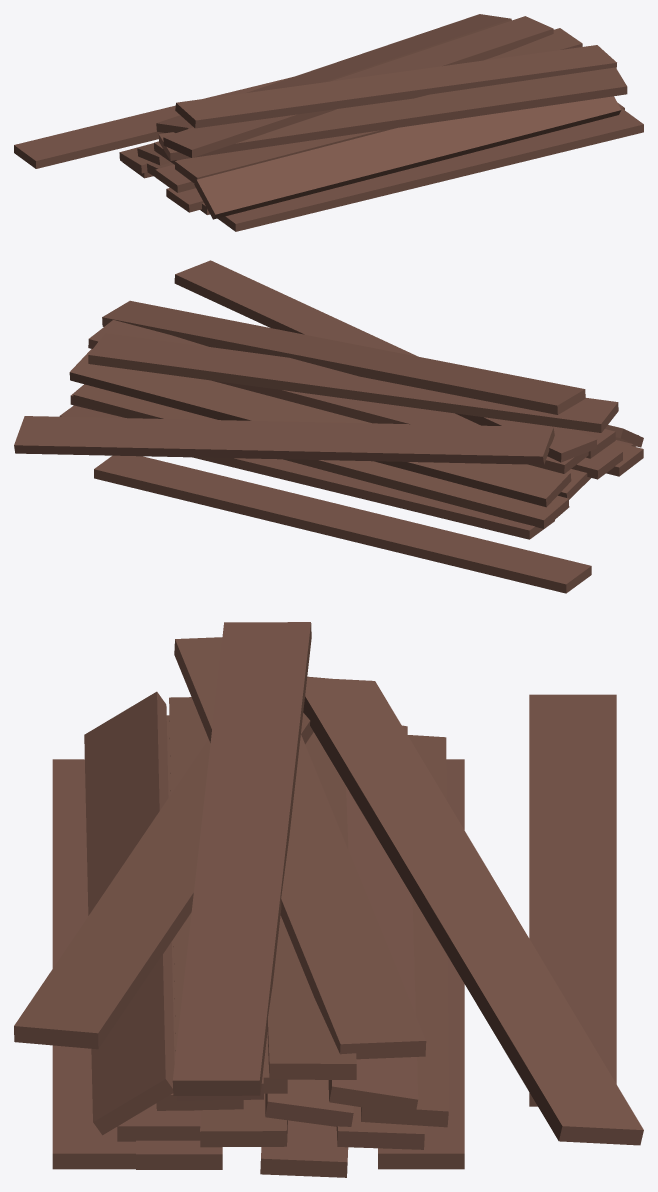
Rendered from model-triangulated.obj.
3 renders of one model, top to bottom at view 1: azimuth 30°, elevation 25°; view 2: azimuth 150°, elevation 25°; view 3: azimuth 270°, elevation 25°, orthographic. The views are drawn at different scales.
Parts seen in each view (by area): view 1: group708861228, group268260862, group294890801, group75019549, group979706915, group2021376920, group565967322, group1859142220, group695272068, group840447443, group124393089, group1923315885 (+1 smaller); view 2: group565967322, group2021376920, group979706915, group268260862, group1505795222, group294890801, group1923315885, group1879373694, group695272068, group840447443, group124393089, group1859142220; view 3: group268260862, group565967322, group2021376920, group979706915, group294890801, group708861228, group75019549, group1505795222, group695272068, group1923315885, group1879373694, group1859142220 (+7 smaller).
Boxes of the visible parts, x1=… form: group708861228: x1=194, y1=96, x2=621, y2=219; group268260862: x1=175, y1=45, x2=616, y2=128; group294890801: x1=158, y1=67, x2=627, y2=160; group75019549: x1=217, y1=109, x2=643, y2=231; group979706915: x1=163, y1=16, x2=553, y2=157; group2021376920: x1=14, y1=77, x2=292, y2=168; group565967322: x1=156, y1=14, x2=511, y2=132; group1859142220: x1=175, y1=128, x2=396, y2=183; group695272068: x1=154, y1=28, x2=582, y2=164; group840447443: x1=155, y1=164, x2=195, y2=192; group124393089: x1=166, y1=188, x2=203, y2=212; group1923315885: x1=119, y1=143, x2=153, y2=173; group565967322: x1=14, y1=416, x2=554, y2=464; group2021376920: x1=94, y1=455, x2=591, y2=593; group979706915: x1=88, y1=333, x2=618, y2=432; group268260862: x1=102, y1=300, x2=585, y2=414; group1505795222: x1=69, y1=349, x2=571, y2=507; group294890801: x1=174, y1=260, x2=597, y2=462; group1923315885: x1=73, y1=384, x2=569, y2=528; group1879373694: x1=59, y1=405, x2=554, y2=539; group695272068: x1=88, y1=320, x2=588, y2=473; group840447443: x1=571, y1=447, x2=622, y2=479; group124393089: x1=606, y1=441, x2=643, y2=476; group1859142220: x1=577, y1=429, x2=615, y2=458; group268260862: x1=172, y1=622, x2=311, y2=1095; group565967322: x1=303, y1=677, x2=643, y2=1145; group2021376920: x1=529, y1=694, x2=616, y2=1106; group979706915: x1=174, y1=637, x2=426, y2=1059; group294890801: x1=14, y1=676, x2=328, y2=1049; group708861228: x1=84, y1=691, x2=174, y2=1135; group75019549: x1=52, y1=759, x2=135, y2=1169; group1505795222: x1=328, y1=725, x2=418, y2=1115; group695272068: x1=267, y1=732, x2=356, y2=1079; group1923315885: x1=361, y1=735, x2=448, y2=1127; group1879373694: x1=378, y1=759, x2=464, y2=1169; group1859142220: x1=169, y1=697, x2=263, y2=1100.
Size of the model in its own units: 5.19 by 0.8658 by 2.9.
